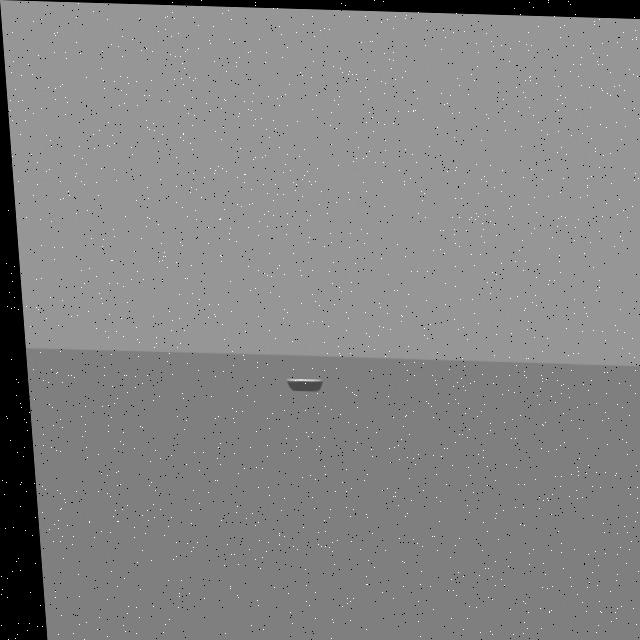bowl: (277, 364, 328, 400)
